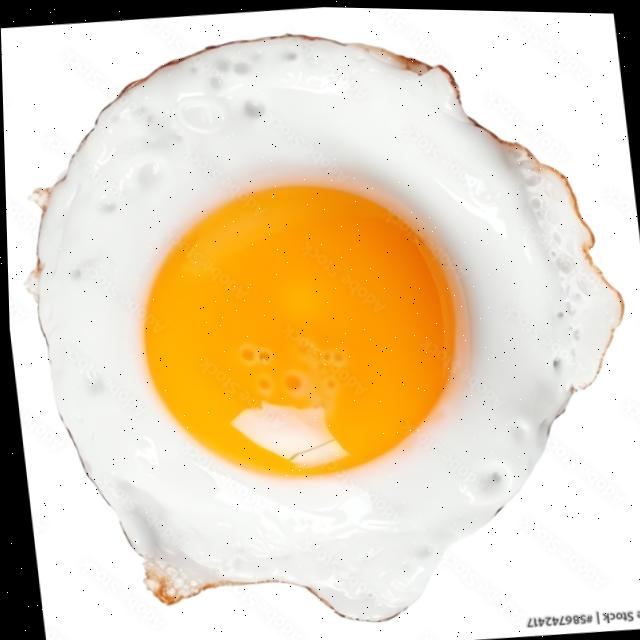Egg: (27, 33, 619, 618)
